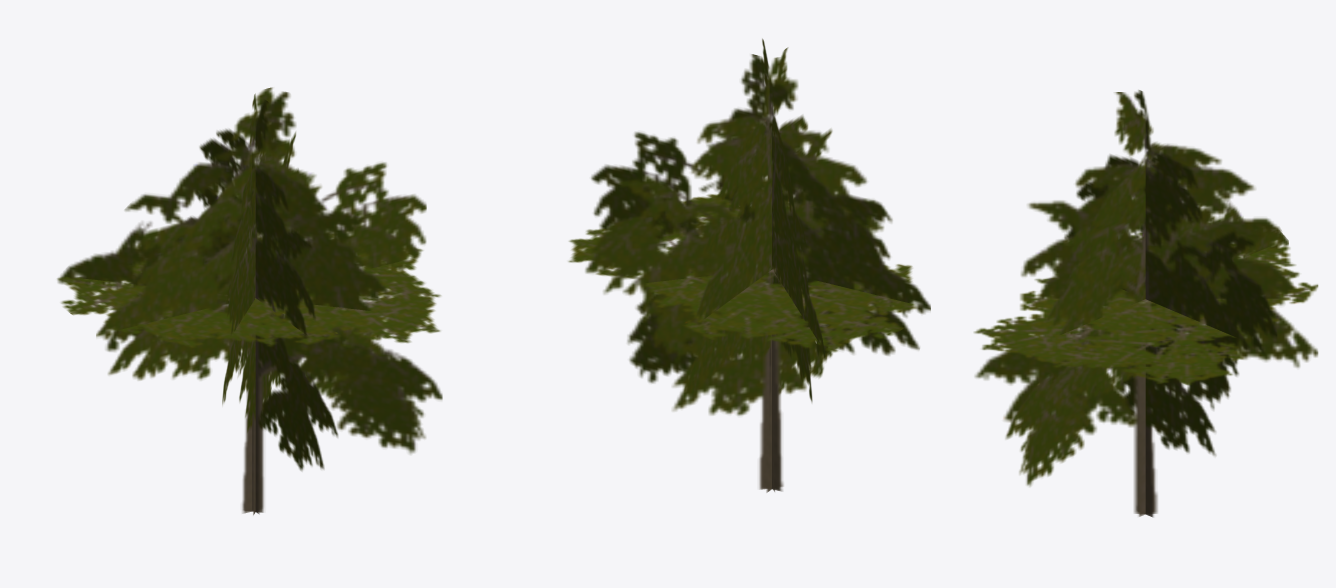
File: maple_acer_medium_3_billboard.gltf
The picture shows the model from 3 angles, left to right: view 1: azimuth 30°, elevation 25°; view 2: azimuth 150°, elevation 25°; view 3: azimuth 270°, elevation 25°; orthographic projection. The views are drawn at different scales.
Visible parts, largest first — view 1: Acer_medium_3_Billboard_LOD3_Acer_medium_3_Billboard_Mat_0; view 2: Acer_medium_3_Billboard_LOD3_Acer_medium_3_Billboard_Mat_0; view 3: Acer_medium_3_Billboard_LOD3_Acer_medium_3_Billboard_Mat_0.
Part boxes in pixels (x1,y1,x2,y2): Acer_medium_3_Billboard_LOD3_Acer_medium_3_Billboard_Mat_0: (57,87,442,515); Acer_medium_3_Billboard_LOD3_Acer_medium_3_Billboard_Mat_0: (568,38,930,492); Acer_medium_3_Billboard_LOD3_Acer_medium_3_Billboard_Mat_0: (974,90,1318,517).
Size of the model in its own units: 8.5 by 10.19 by 7.55.
Materials: 1 (1 with a texture image).
